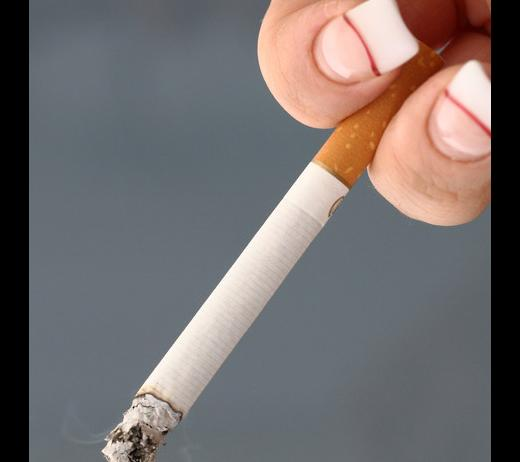Cigarette: (99, 37, 447, 462)
